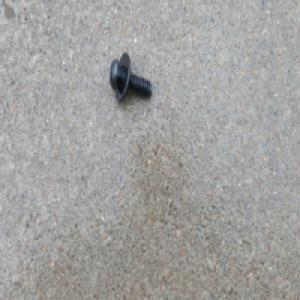BoltWasher: (108, 51, 151, 102)
